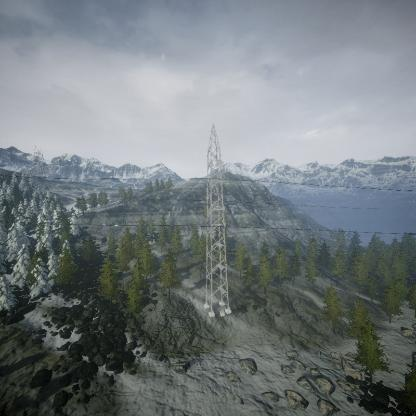tower: (200, 123, 232, 318)
